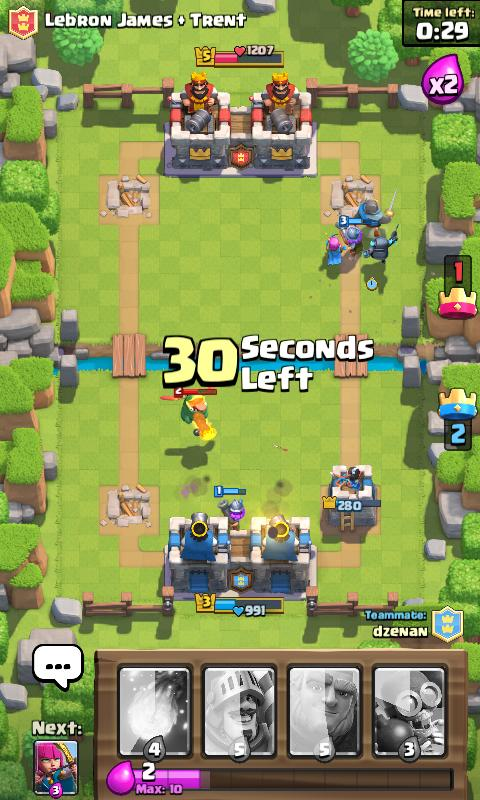ally_archer: (323, 229, 345, 267)
ally_knight: (353, 189, 397, 228)
ally_mini_pekka: (362, 223, 399, 265)
ally_musketeer: (212, 485, 247, 529), (334, 214, 363, 260)
enemy_baby_dragon: (158, 385, 216, 425)
